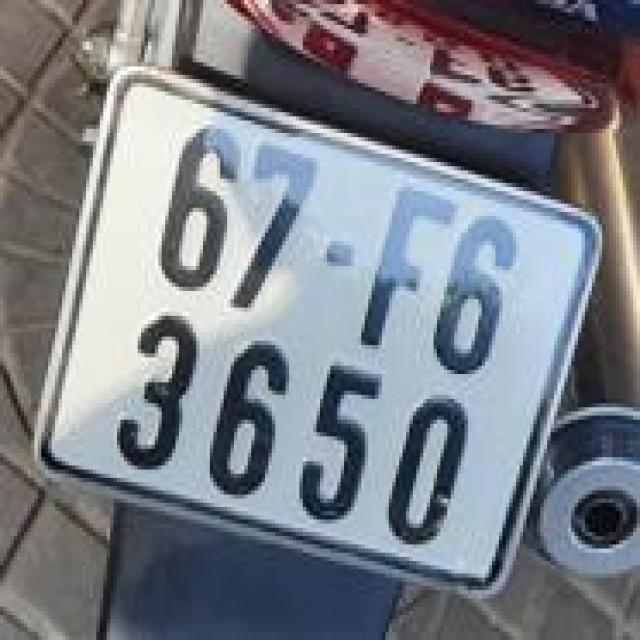0: (373, 378, 488, 558)
3: (110, 295, 213, 481)
5: (280, 345, 404, 540)
6: (421, 197, 536, 394), (196, 316, 308, 511), (148, 110, 259, 302)
7: (217, 130, 334, 331)
F: (347, 170, 471, 363)
